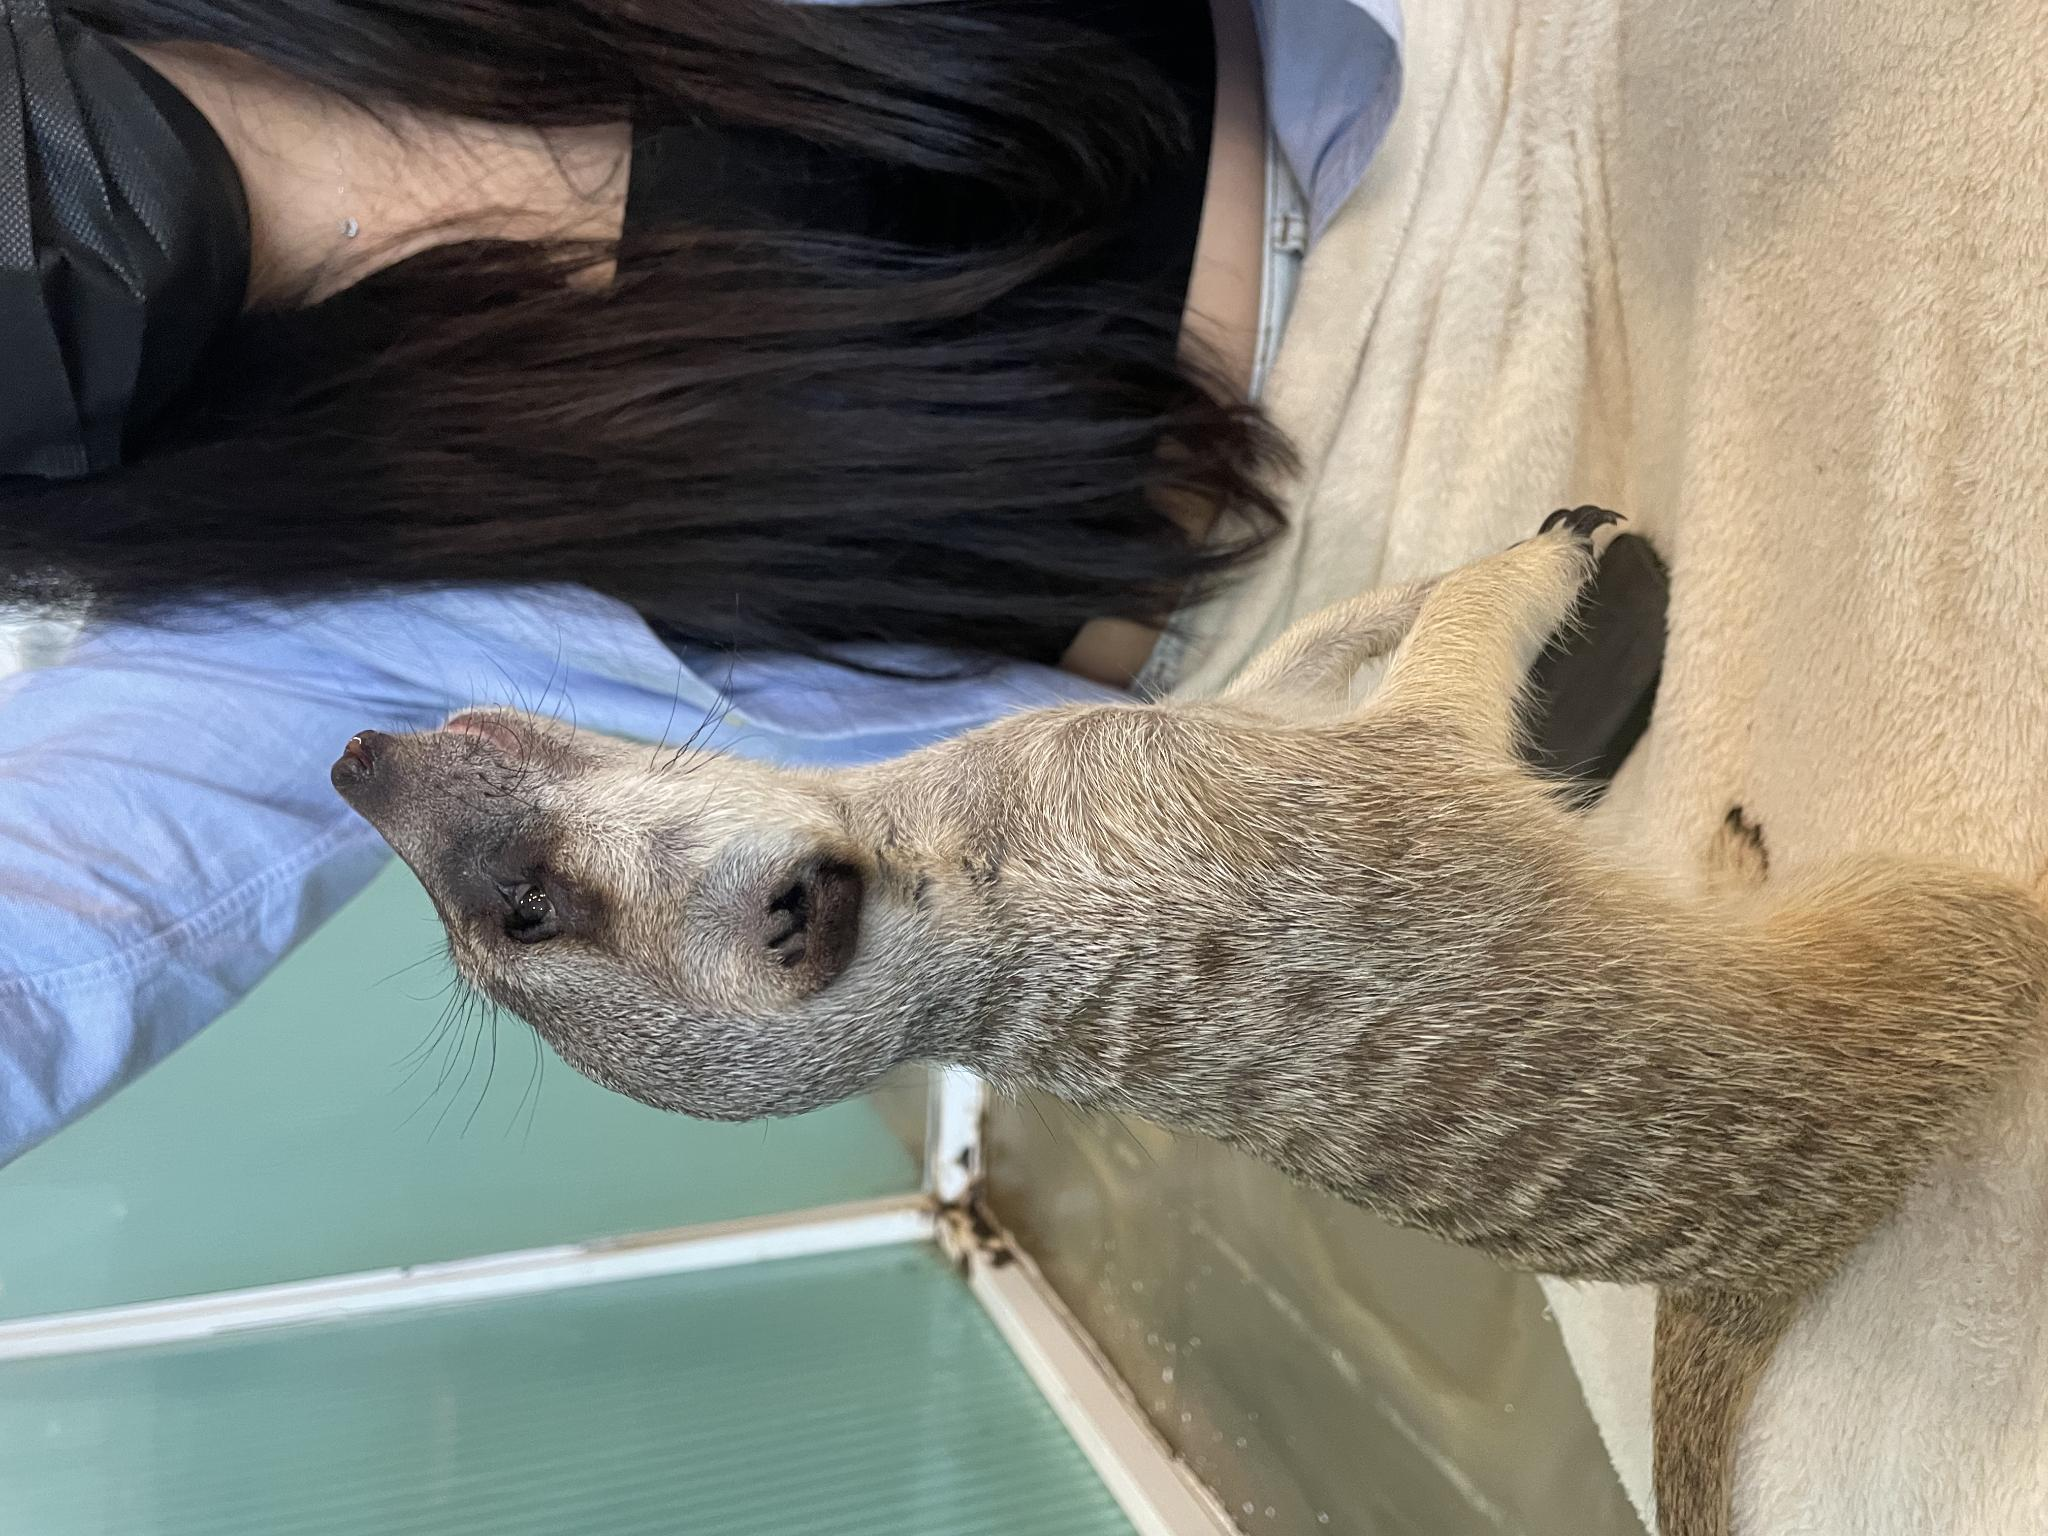meerkat: (2, 326, 1032, 1536)
